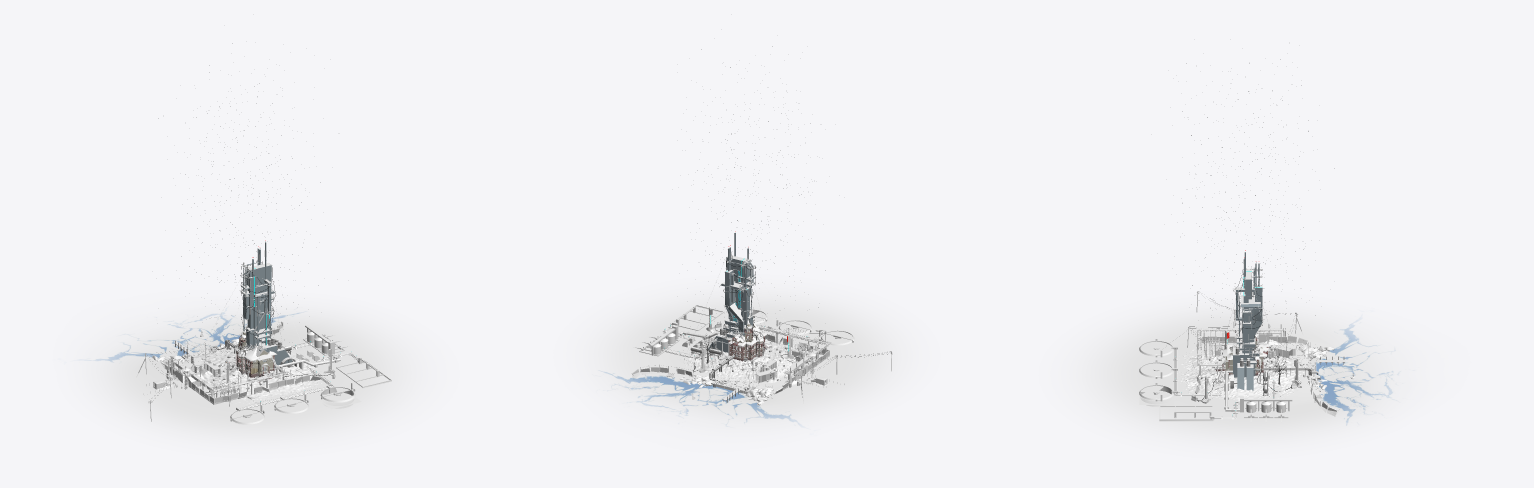
Rendered from terem.glb.
The picture shows the model from 3 angles, left to right: view 1: azimuth 30°, elevation 25°; view 2: azimuth 150°, elevation 25°; view 3: azimuth 270°, elevation 25°; orthographic projection. The views are drawn at different scales.
Parts seen in each view (by area): view 1: object 68, object 41, object 67, object 12, object 9, Cube_2, herniio, object 28, Plane_1; view 2: object 68, object 41, object 67, object 12, Cube_2, herniio, object 34, object 9, Plane_1; view 3: object 68, object 67, object 41, object 12, Cube_2, herniio, object 28, object 9.
Part boxes in pixels (box(x1,y1,x2,y2)): object 68: box(78, 301, 432, 447); object 41: box(241, 240, 292, 370); object 67: box(189, 345, 323, 404); object 12: box(230, 382, 360, 424); object 9: box(160, 362, 321, 404); Cube_2: box(278, 325, 349, 372); herniio: box(240, 250, 277, 349); object 28: box(167, 327, 358, 409); Plane_1: box(171, 356, 284, 397); object 68: box(576, 285, 915, 434); object 41: box(708, 231, 755, 356); object 67: box(682, 331, 812, 383); object 12: box(749, 309, 854, 345); Cube_2: box(634, 325, 719, 356); herniio: box(711, 252, 756, 344); object 34: box(679, 374, 776, 405); object 9: box(765, 334, 829, 393); Plane_1: box(760, 326, 827, 382); object 68: box(1066, 300, 1423, 448); object 67: box(1176, 349, 1305, 399); object 41: box(1233, 250, 1262, 390); object 12: box(1139, 339, 1177, 405); Cube_2: box(1224, 373, 1292, 421); herniio: box(1232, 260, 1264, 371); object 28: box(1174, 328, 1285, 418); object 9: box(1190, 335, 1307, 393).
Size of the model in its own units: 125 by 98.54 by 137.
Materials: 29 (5 with a texture image).
